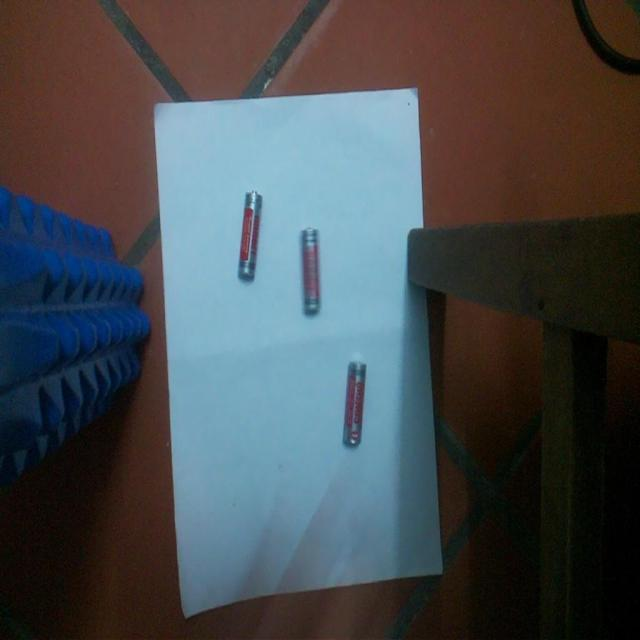AA: (236, 190, 264, 282), (342, 360, 366, 448)
AAA: (298, 226, 322, 314)
